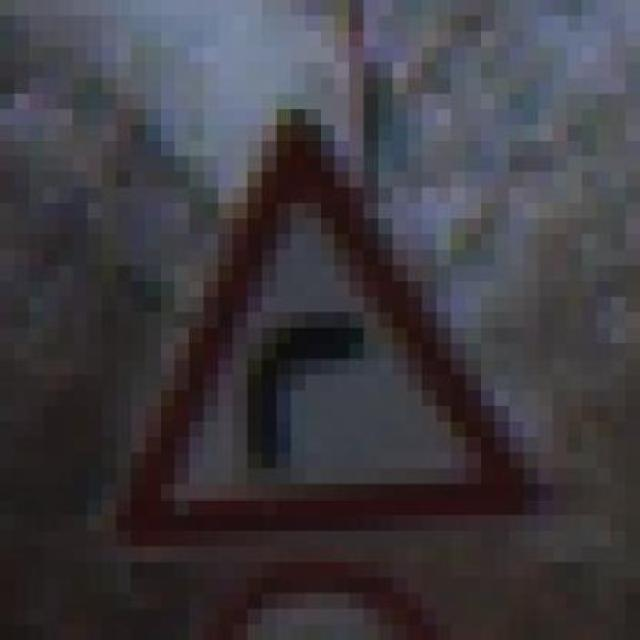Dangerous Rright Curve Ahead: (87, 94, 567, 546)
